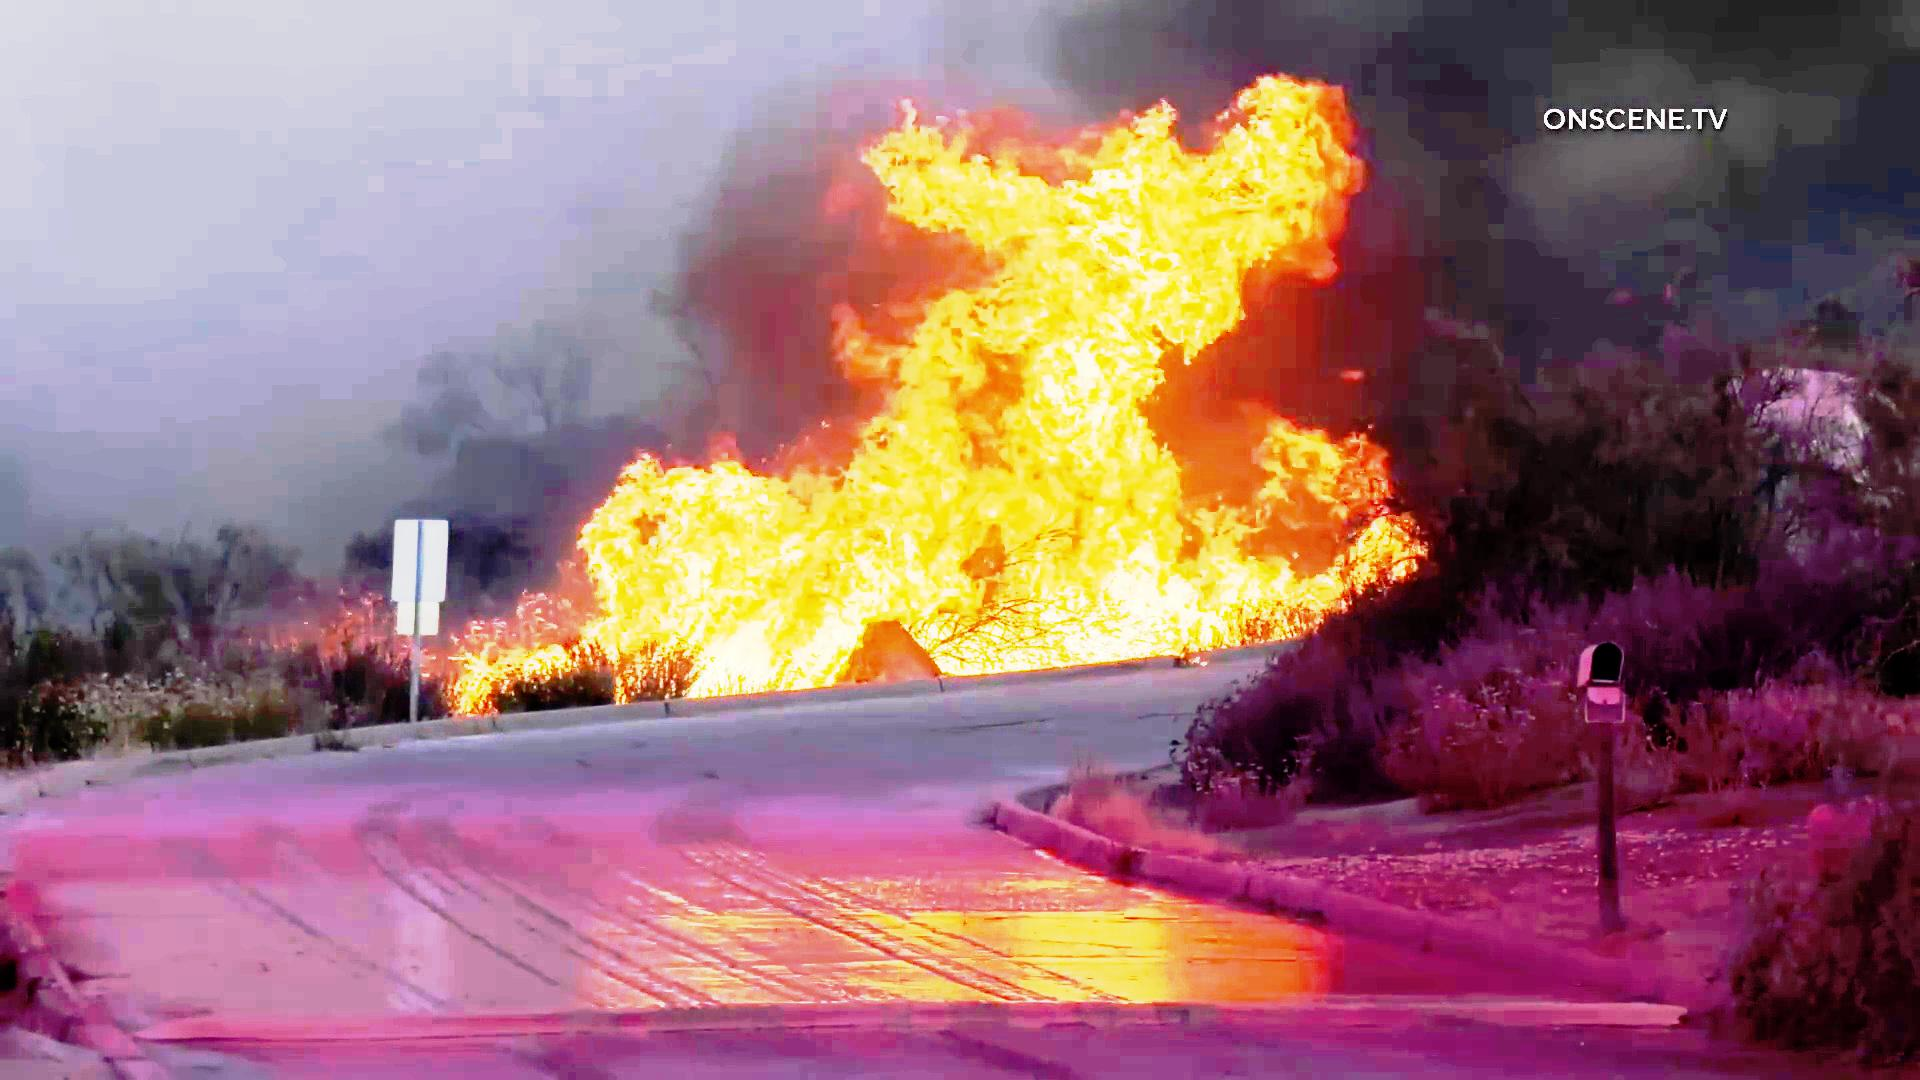fire: (862, 83, 1353, 661), (460, 421, 862, 703)
